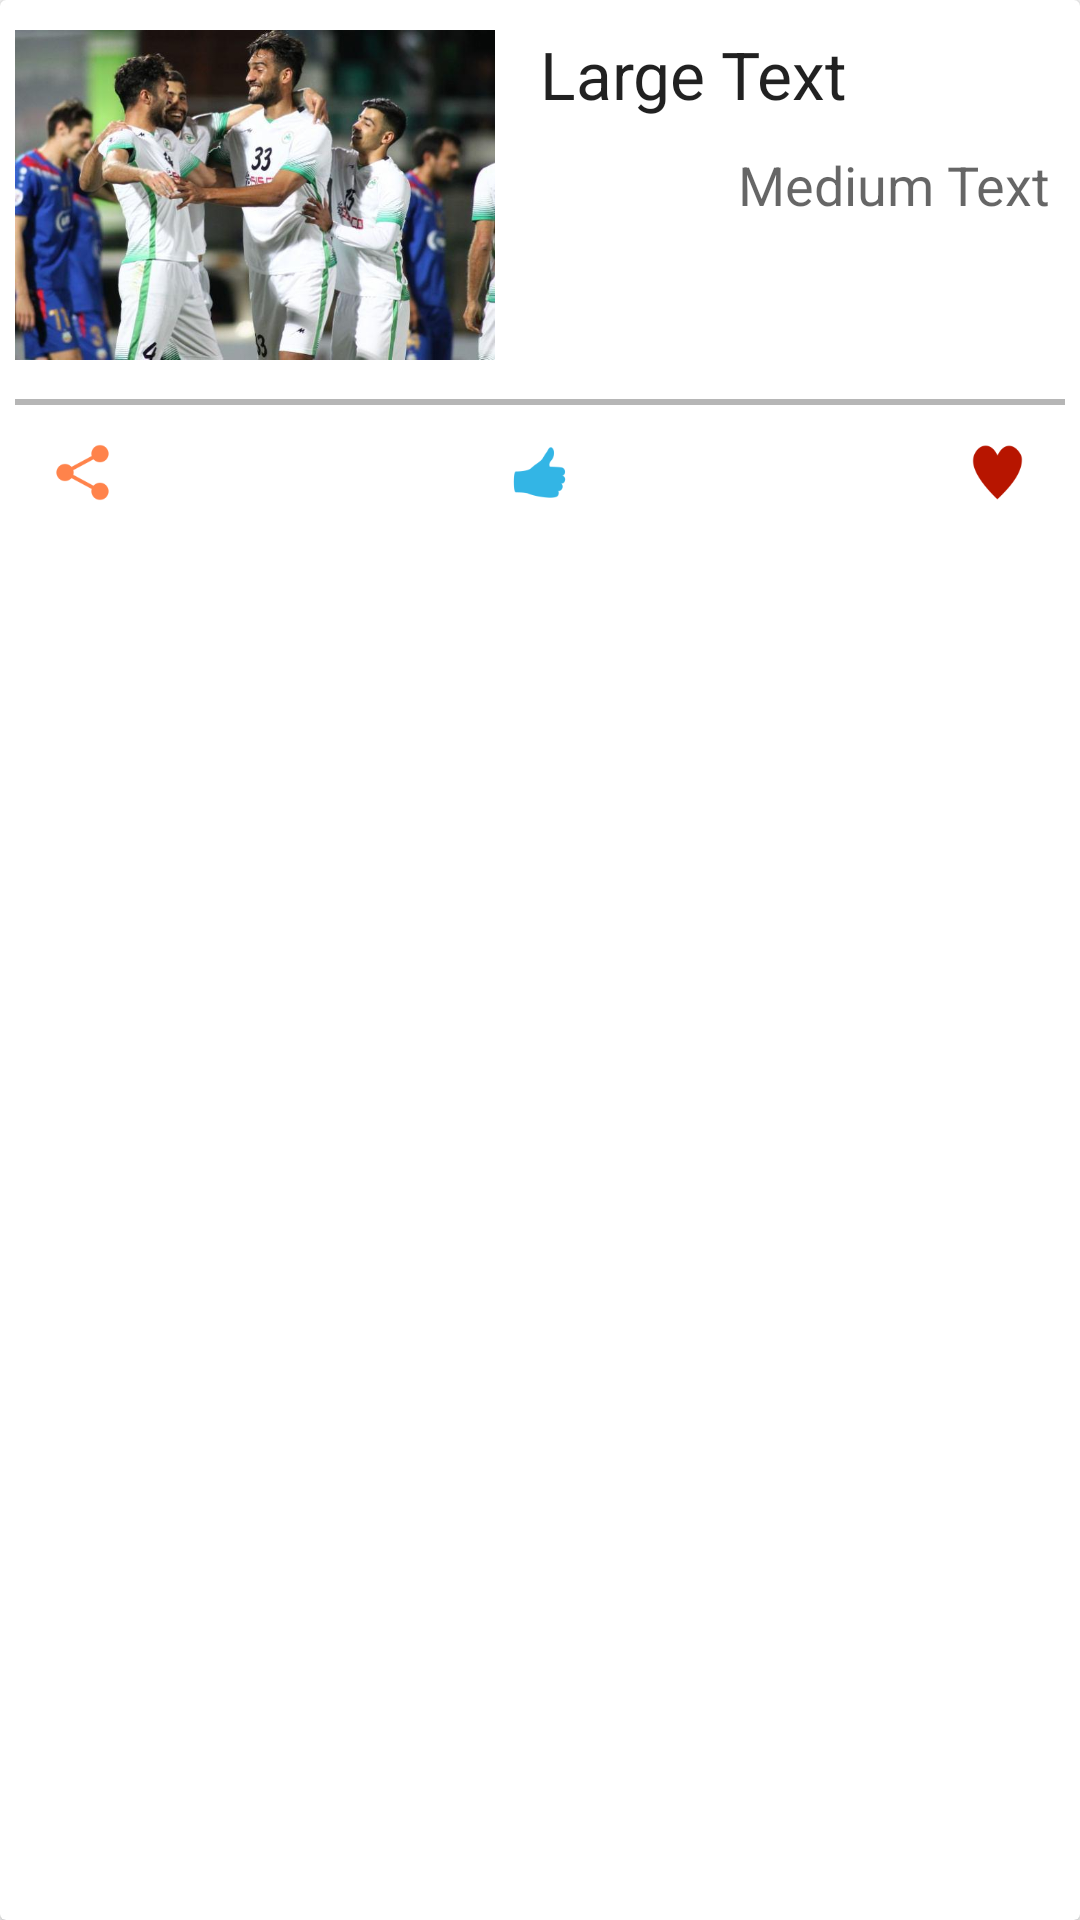

Locate icon controls on the screen. Image size 1080x1920, boxes as (x1, y1, x2, y2).
favorite: (973, 445, 1022, 500)
like: (513, 447, 566, 498)
share: (56, 445, 109, 500)
